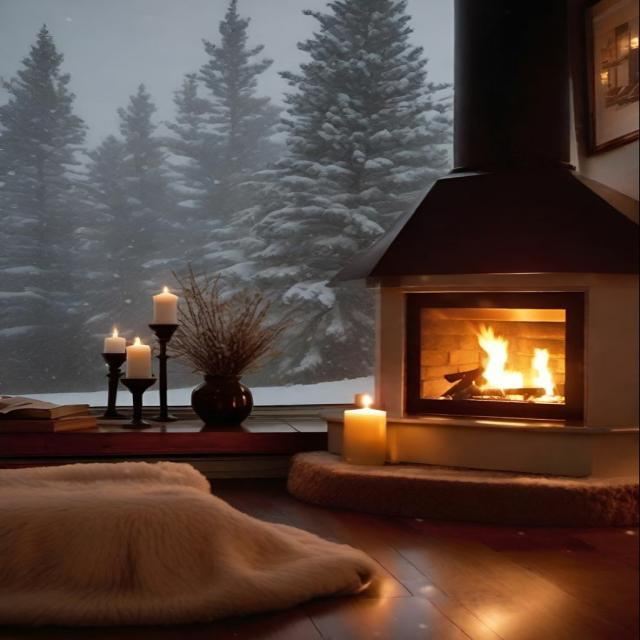Fire: (309, 319, 640, 428), (60, 316, 218, 342), (124, 268, 213, 300)
